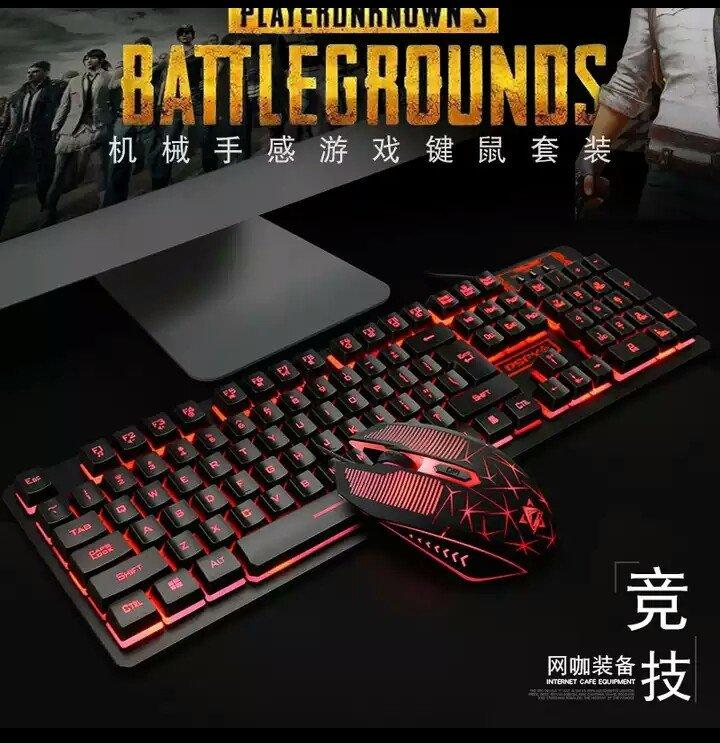keyboard: (22, 232, 713, 668)
mouse: (333, 419, 559, 588)
